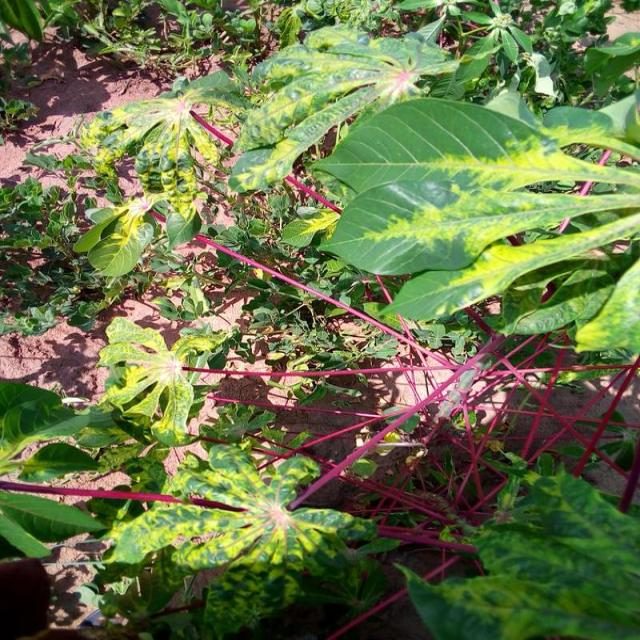cassava leaf: (310, 89, 640, 353), (101, 440, 382, 634), (394, 460, 640, 638), (229, 18, 461, 195)
